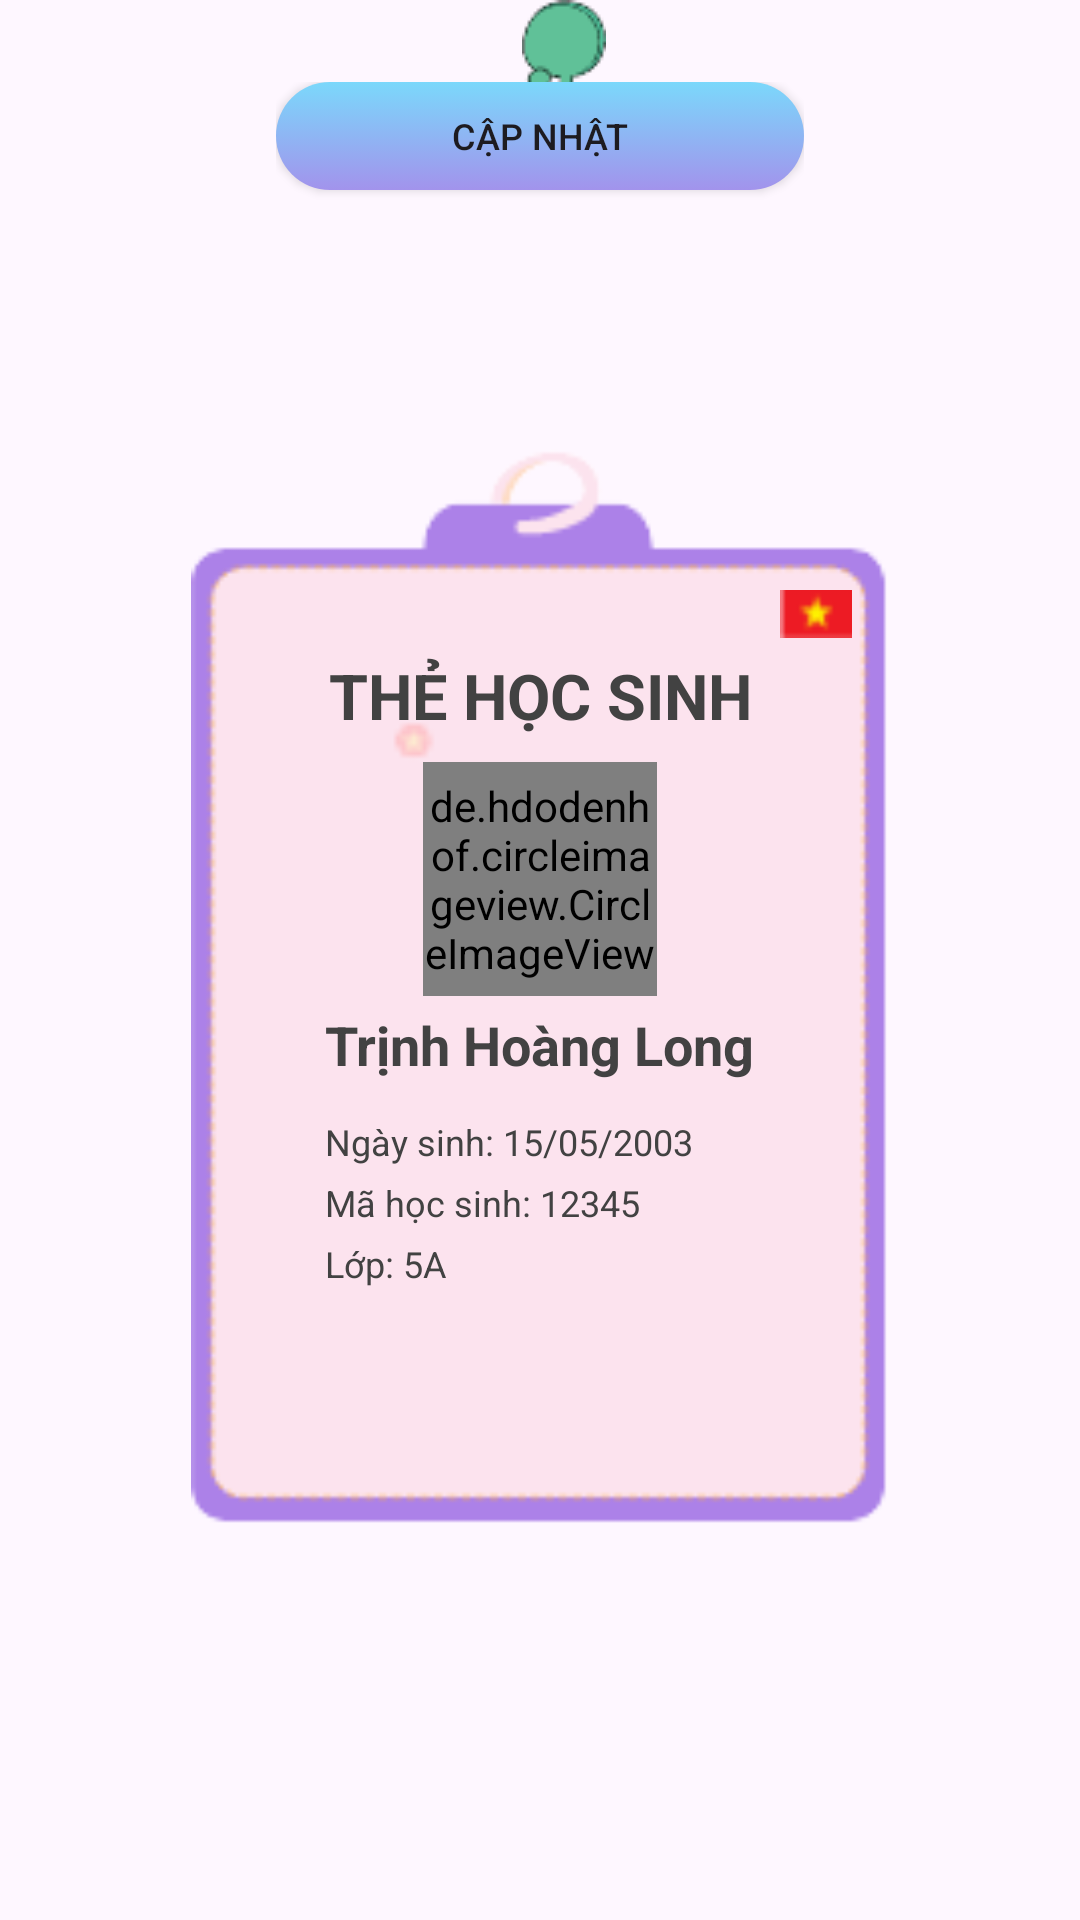

Icon click points for this 1080×1920 phone screenshot, format (x=x, y=y):
flag: (x=816, y=614)
